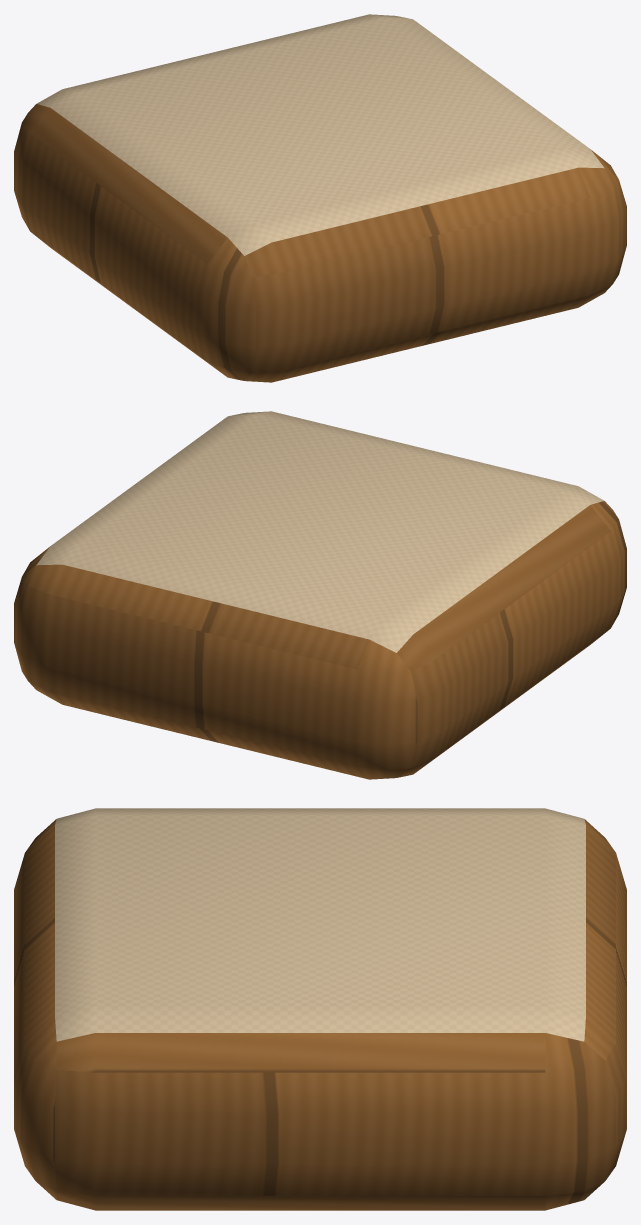
The model's file is modern_cushion_02.glb.
3 views of the same model, one above another, from view 1: azimuth 30°, elevation 25°; view 2: azimuth 150°, elevation 25°; view 3: azimuth 270°, elevation 25° (orthographic). The views are drawn at different scales.
Visible parts, largest first — view 1: modern_cushion_02; view 2: modern_cushion_02; view 3: modern_cushion_02.
Boxes of the visible parts, x1,y1,x2,y2 form: modern_cushion_02: [14, 14, 626, 382]; modern_cushion_02: [14, 411, 626, 779]; modern_cushion_02: [14, 808, 626, 1210].
Size of the model in its own units: 0.45 by 0.16 by 0.45.
Materials: 2 (2 with a texture image).
